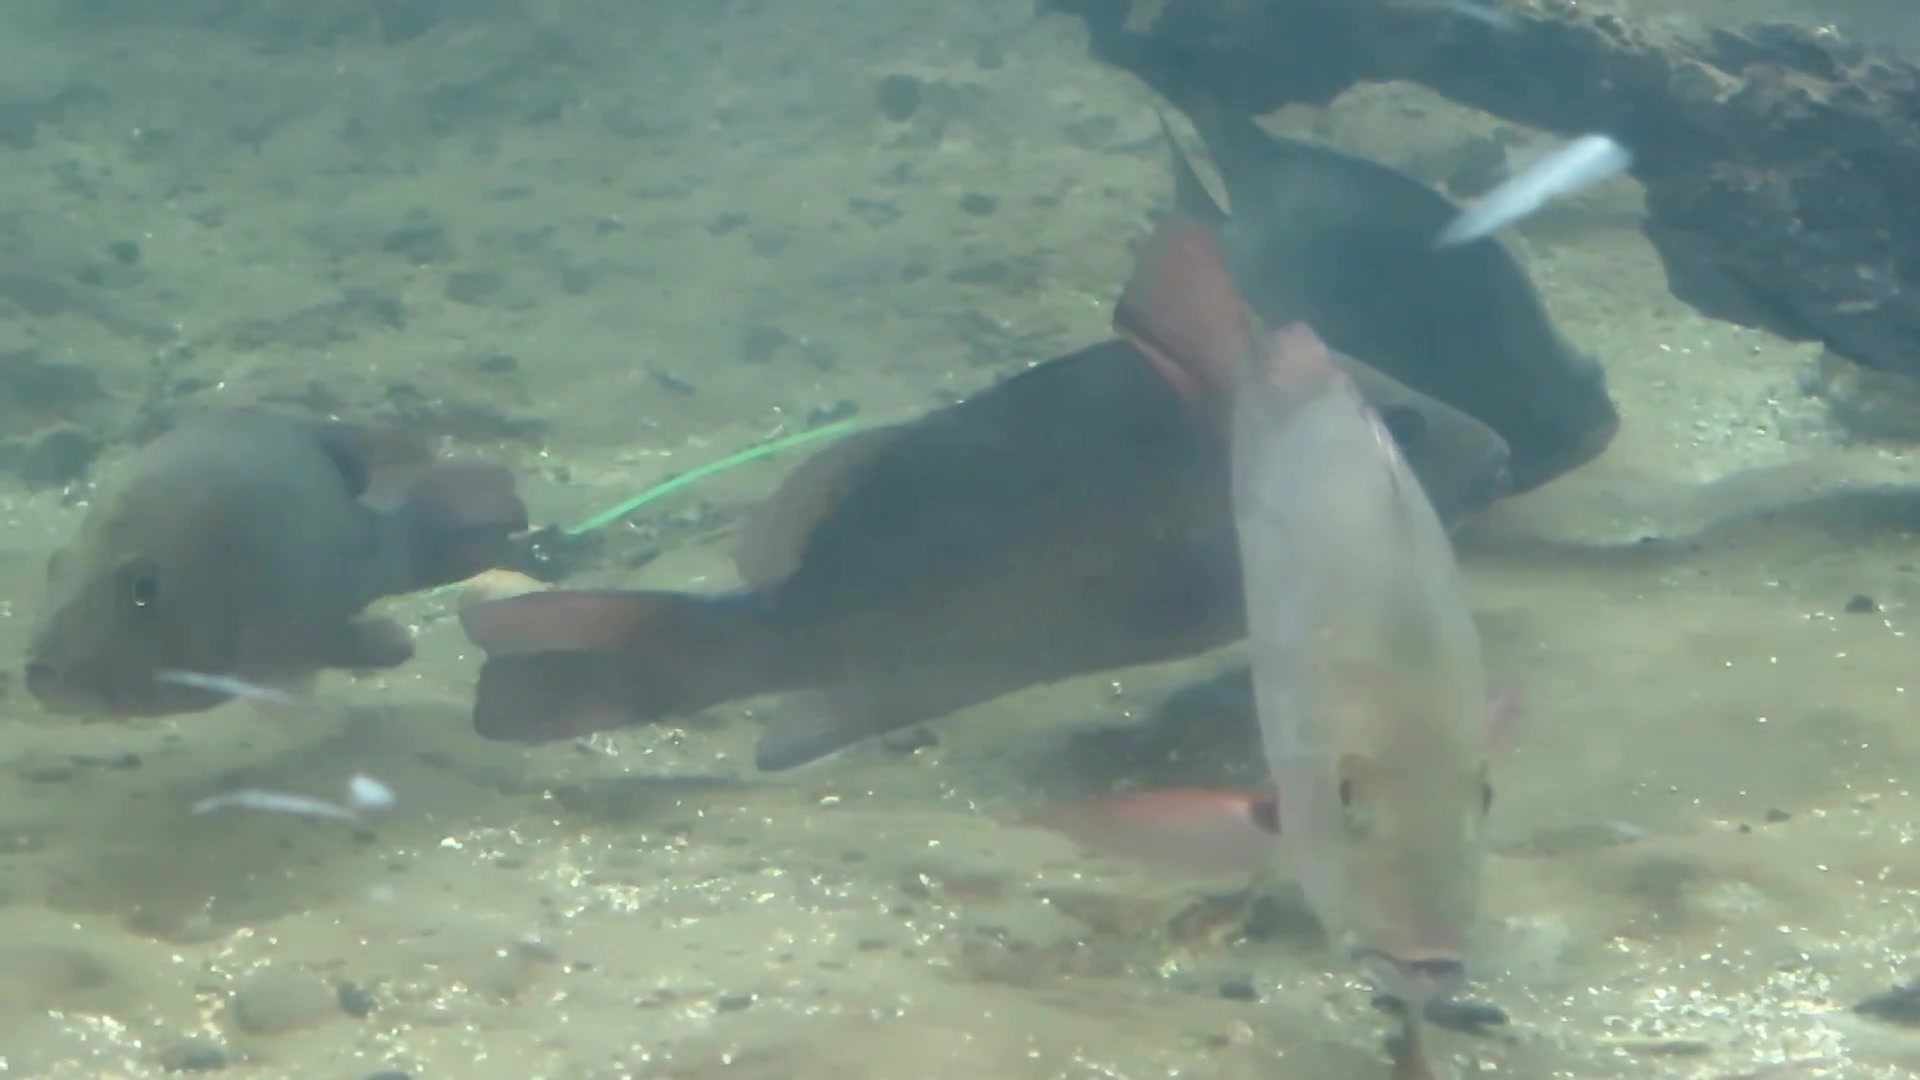Lutjanus argentimaculatus: (1244, 338, 1513, 1022), (1, 380, 505, 711)
